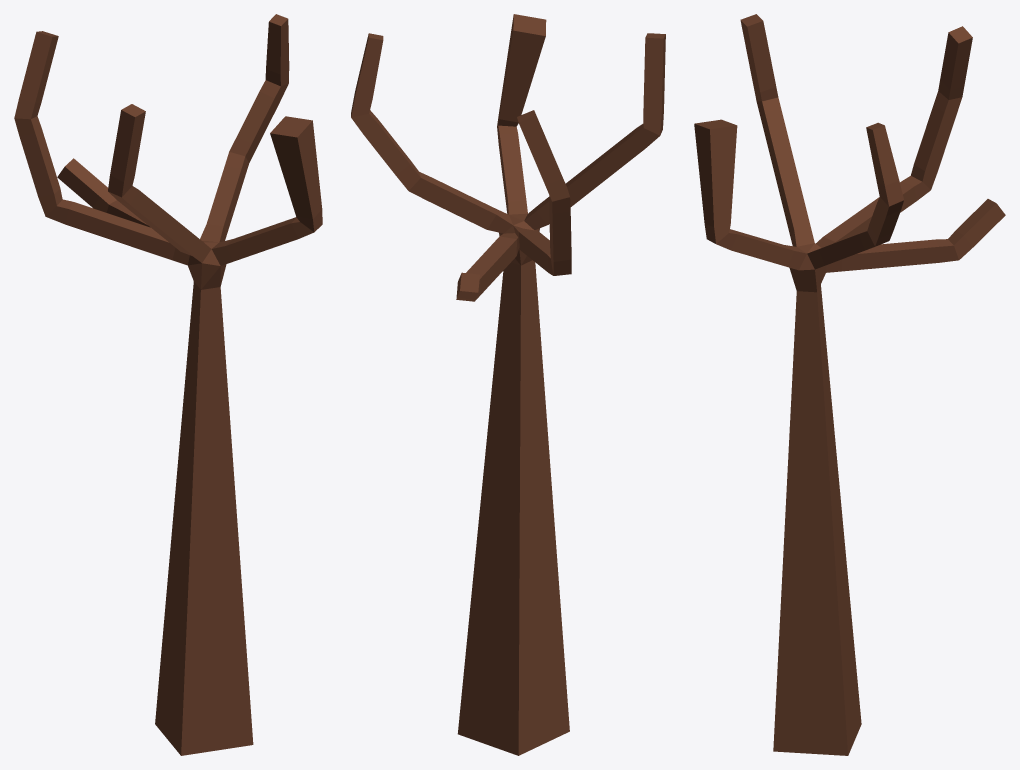
Rendered from Arvore_Tipo2_MarinaPardalP01.fbx.
The picture shows the model from 3 angles, left to right: view 1: azimuth 30°, elevation 25°; view 2: azimuth 150°, elevation 25°; view 3: azimuth 270°, elevation 25°; orthographic projection. The views are drawn at different scales.
Visible parts, largest first — view 1: arvore.001; view 2: arvore.001; view 3: arvore.001.
Boxes of the visible parts, x1=… form: arvore.001: x1=14, y1=14, x2=322, y2=755; arvore.001: x1=351, y1=14, x2=665, y2=755; arvore.001: x1=694, y1=14, x2=1005, y2=755.
Bounding box in the file's own units: 4296 × 11413 × 4816.
